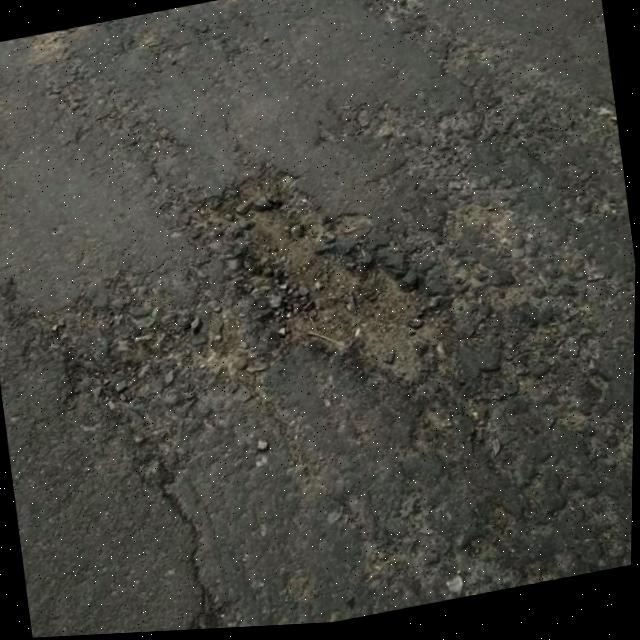Pothole: (172, 132, 460, 422)
